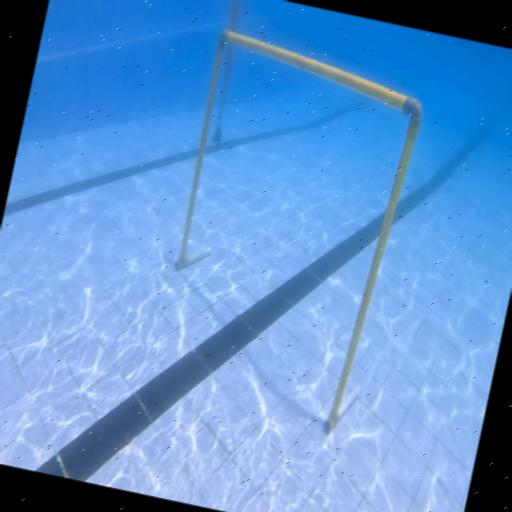gate: (142, 28, 430, 440)
